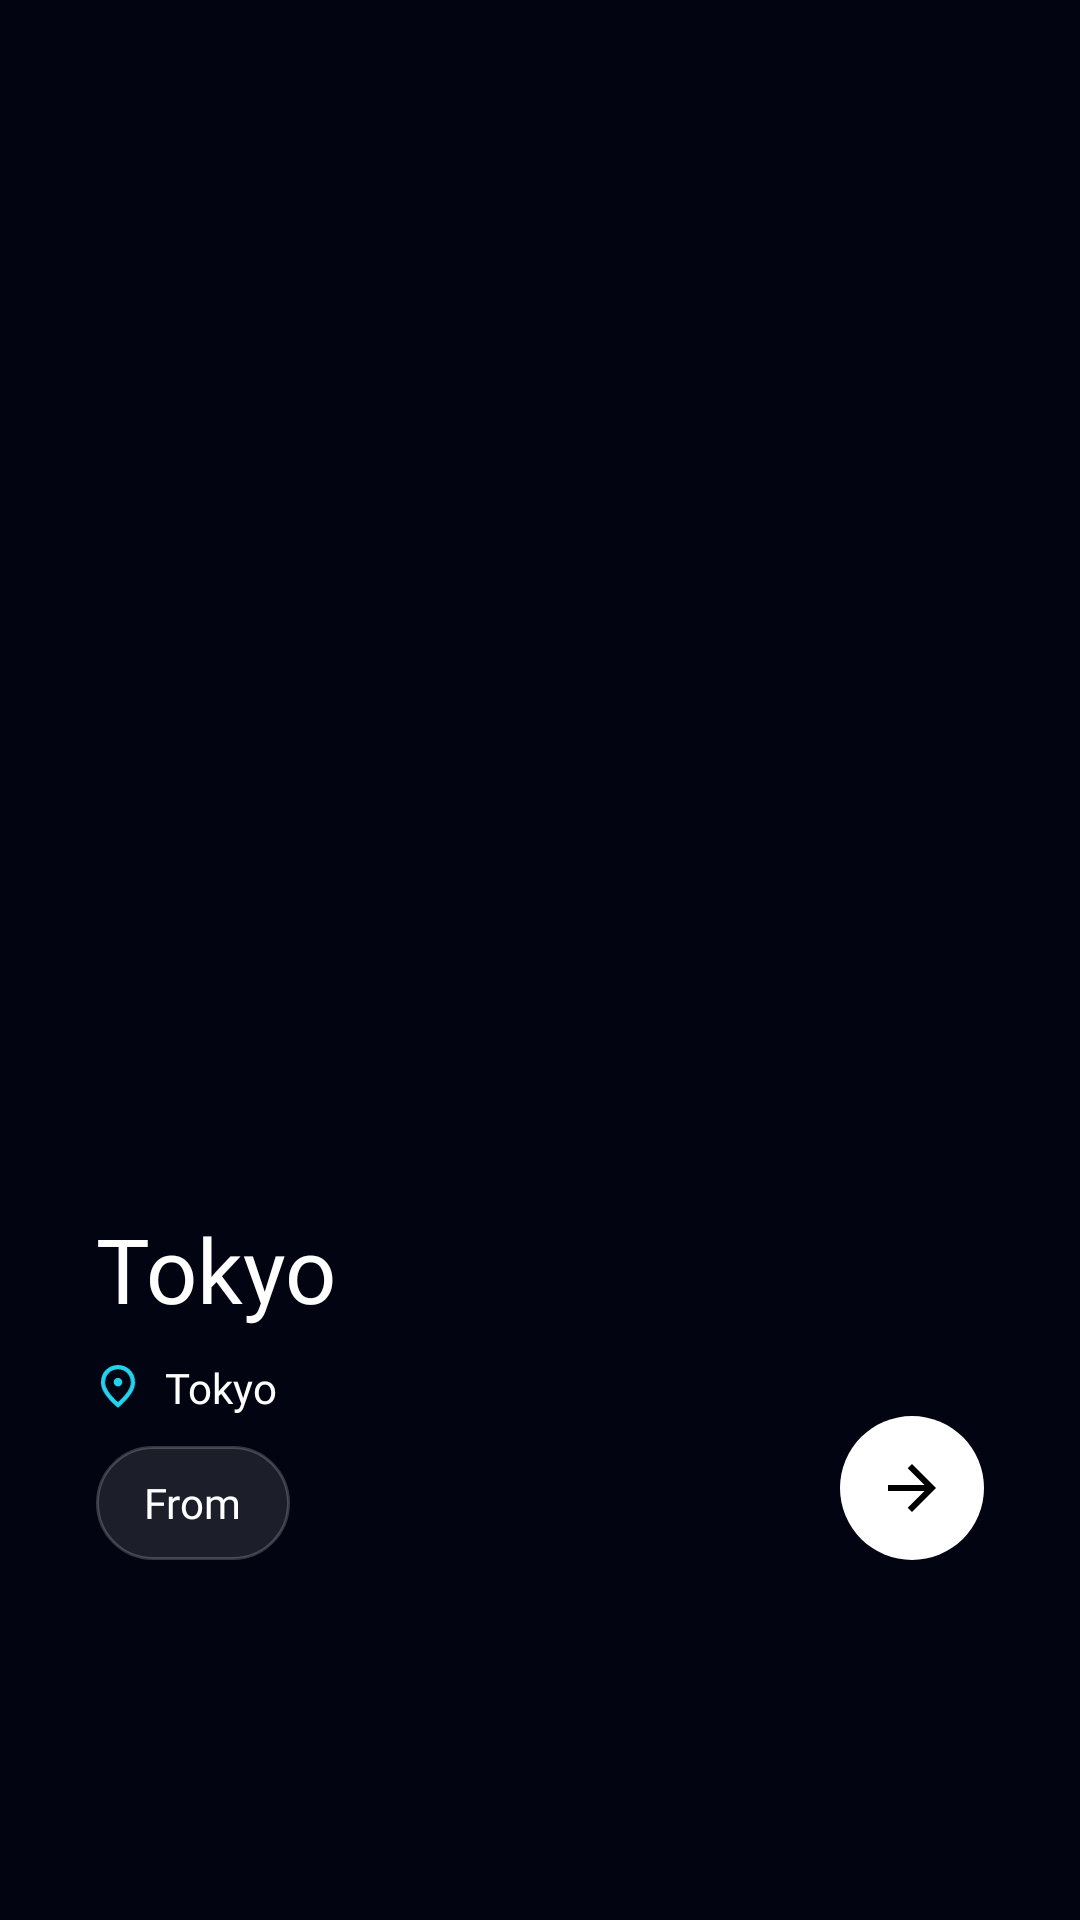

Point at icon controls on the screen. Image size 1080 × 1920, points as [x,y].
location: [118,1386]
right arrow: [912,1488]
